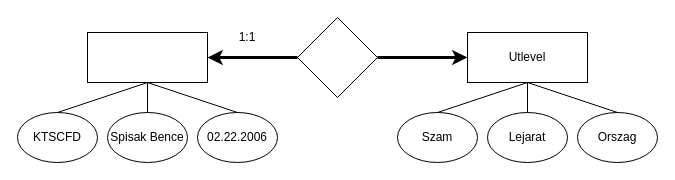
The diagram is 675 pixels wide and 180 high, and some of its shapes have lost their labels. Here are the shapes that lost their labels. From the top down, the centre of each, then its label:
the point at 147,57: Hallgato
the point at 337,57: H_U
